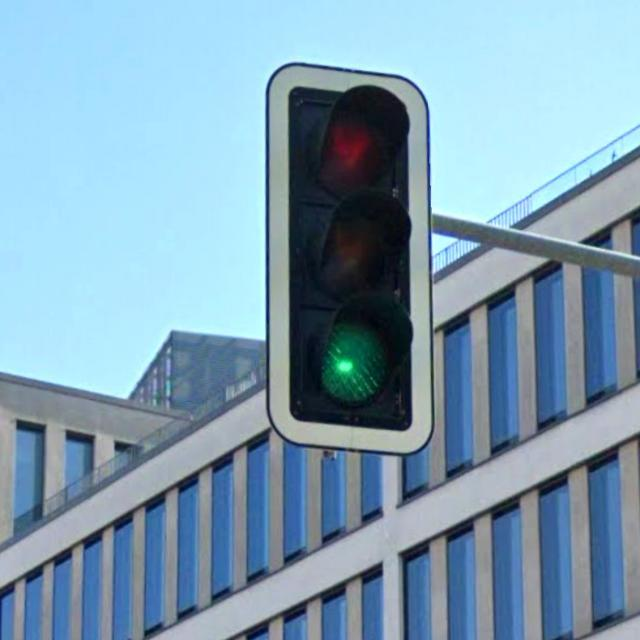green_light: (265, 61, 436, 454)
